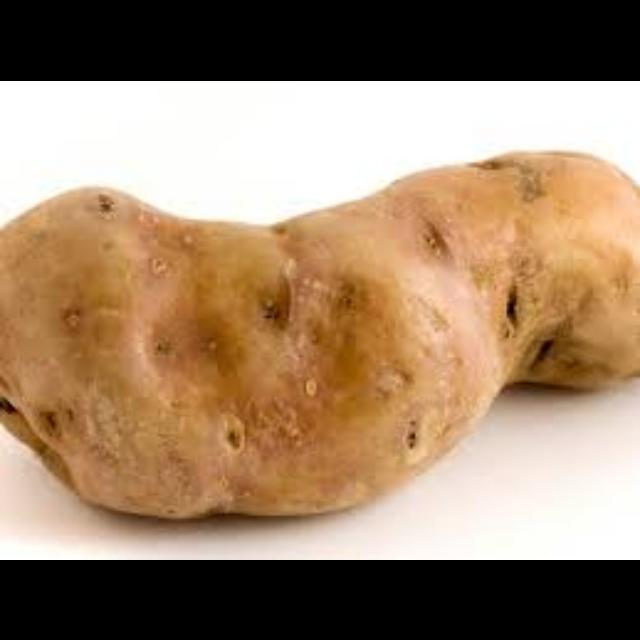Damaged potato: (0, 143, 640, 512)
